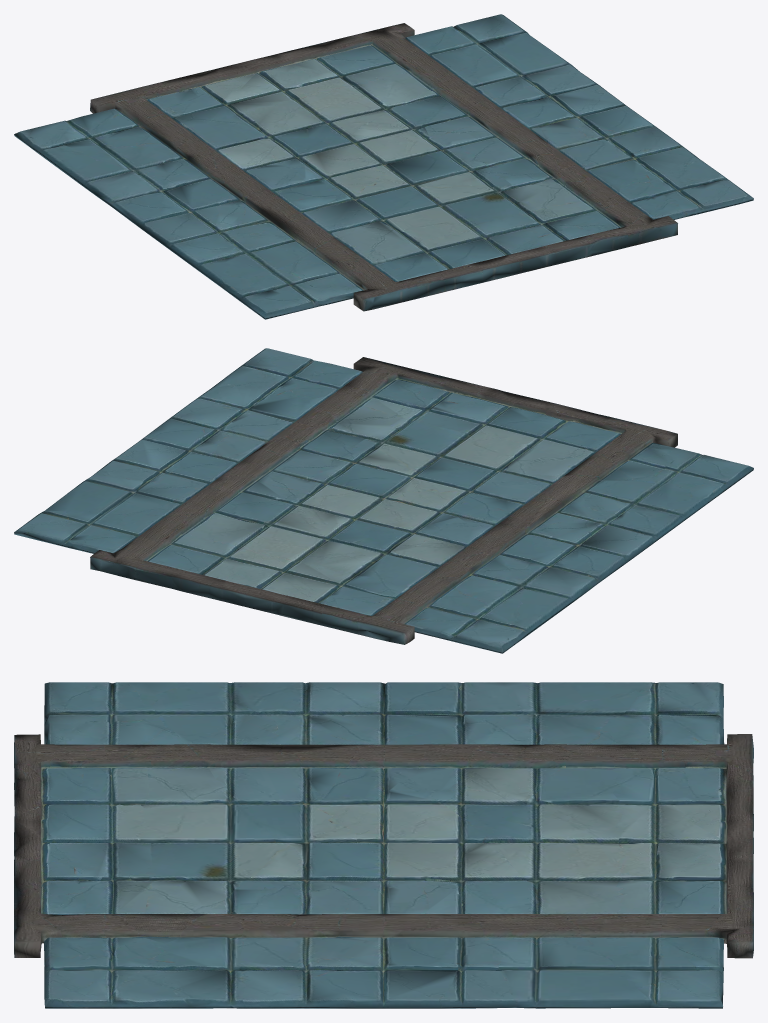
File: checker-road.glb
3 views of the same model, one above another, from view 1: azimuth 30°, elevation 25°; view 2: azimuth 150°, elevation 25°; view 3: azimuth 270°, elevation 25° (orthographic). The views are drawn at different scales.
Bounding box in the file's own units: 1.9 × 0.048 × 1.84.
1 material, 1 textured.
